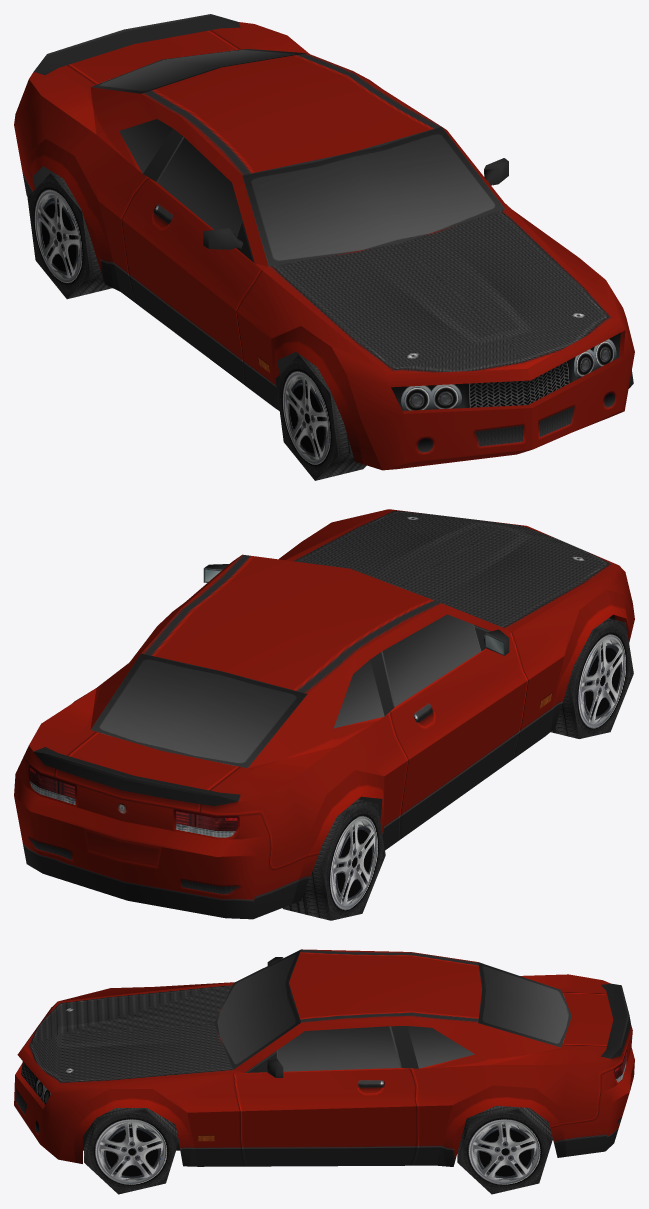
Rendered from Modern_Muscle_Car_LOD2.fbx.
3 views of the same model, one above another, from view 1: azimuth 30°, elevation 25°; view 2: azimuth 150°, elevation 25°; view 3: azimuth 270°, elevation 25° (orthographic). The views are drawn at different scales.
Parts seen in each view (by area): view 1: Chassis, RF_Wheel, RR_Wheel; view 2: Chassis, RR_Wheel, RF_Wheel; view 3: Chassis, LR_Wheel, LF_Wheel.
Part boxes in pixels (x1,y1,x2,y2): Chassis: (14,14,634,470); RF_Wheel: (275,354,366,480); RR_Wheel: (27,172,112,299); Chassis: (14,509,634,919); RR_Wheel: (282,799,385,920); RF_Wheel: (551,618,633,738); Chassis: (14,949,634,1166); LR_Wheel: (457,1105,552,1194); LF_Wheel: (84,1108,179,1194).
Size of the model in its own units: 2.29 by 1.55 by 5.43.
Materials: 2 (2 with a texture image).
